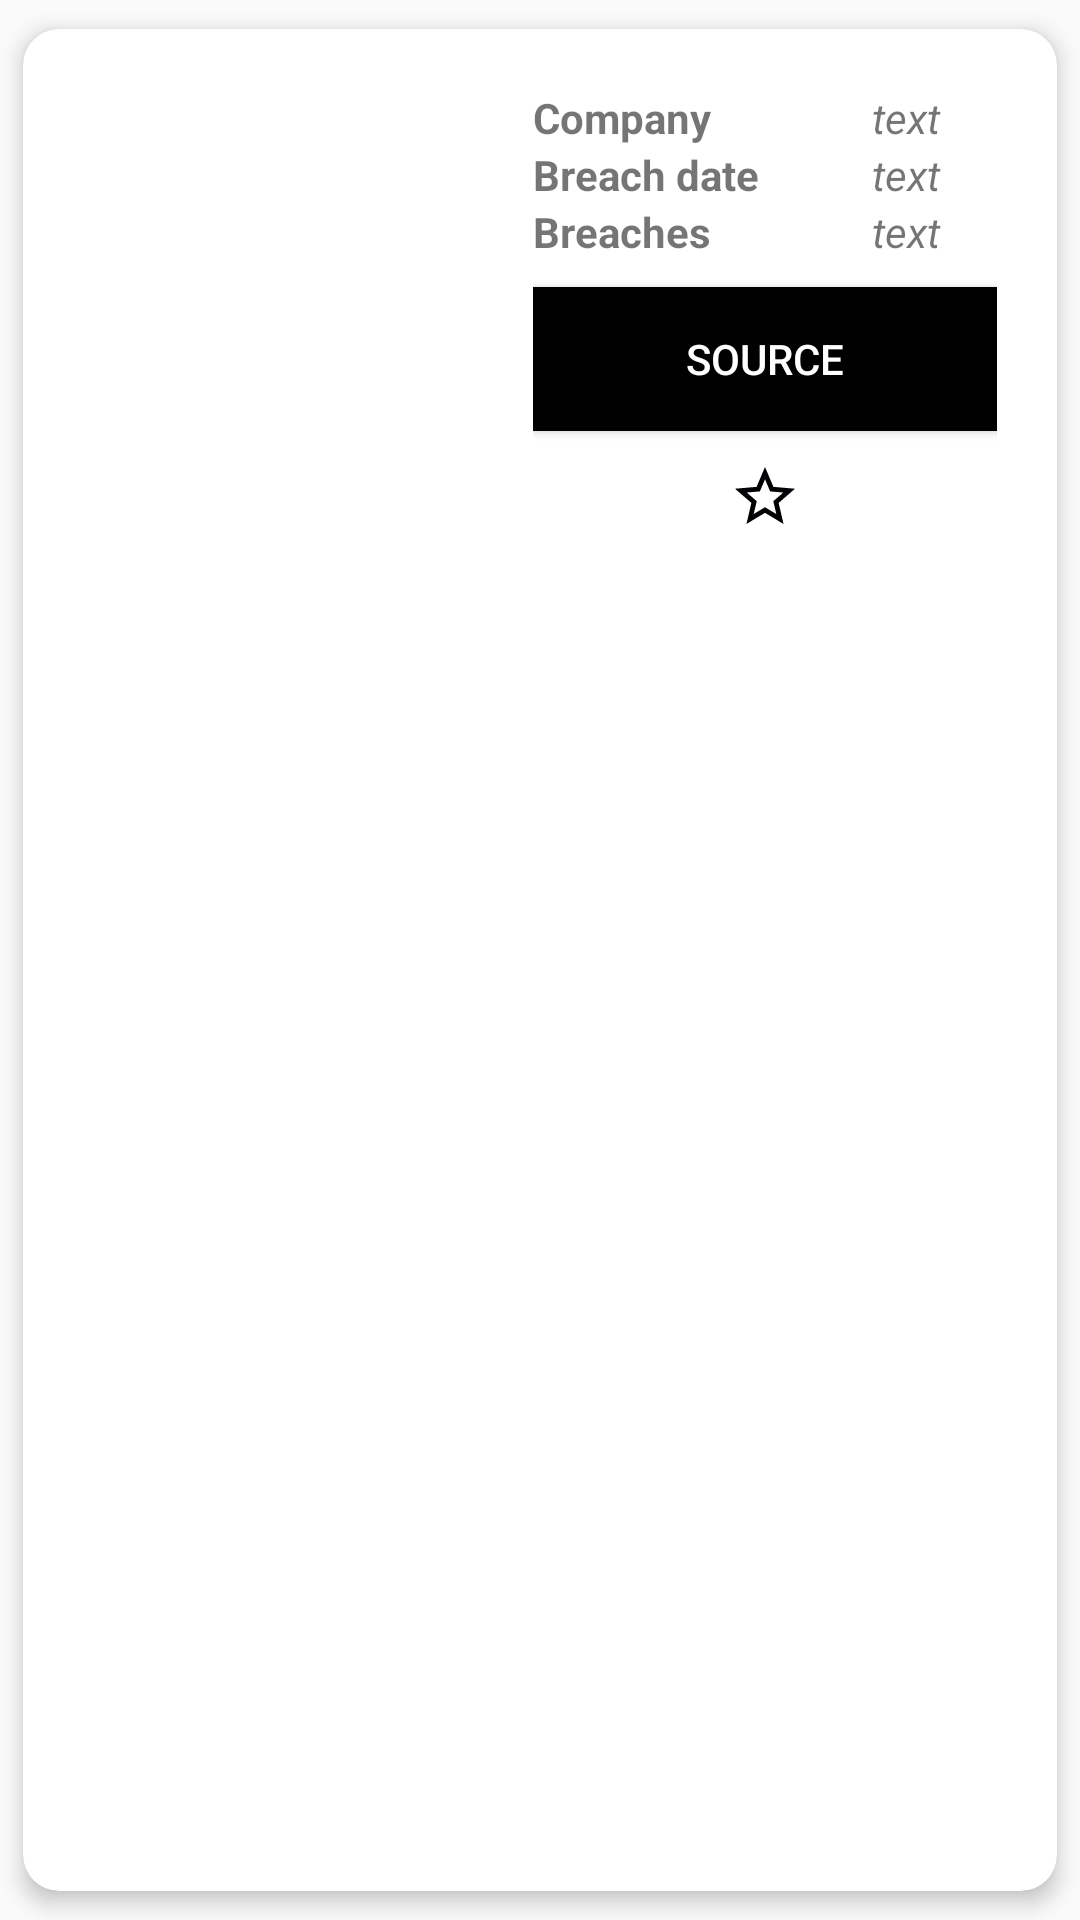

Where icons sit on this 1080×1920 app screen, as (x1, y1, x2, y2):
star border: (735, 467, 795, 524)
